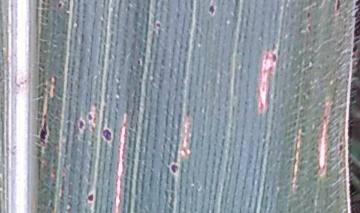tarspot: (38, 94, 50, 149), (100, 124, 115, 145), (167, 160, 183, 179), (83, 187, 99, 205), (75, 114, 87, 134), (205, 1, 218, 18), (331, 1, 343, 19), (336, 138, 346, 156), (151, 18, 163, 32), (86, 111, 96, 127), (303, 21, 314, 35), (270, 49, 279, 65), (305, 8, 312, 22)
